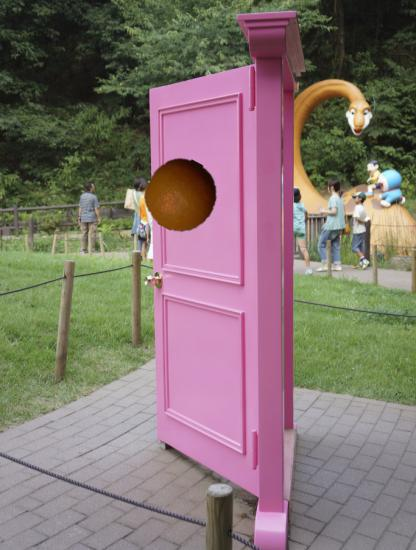Orange: (145, 159, 218, 232)
